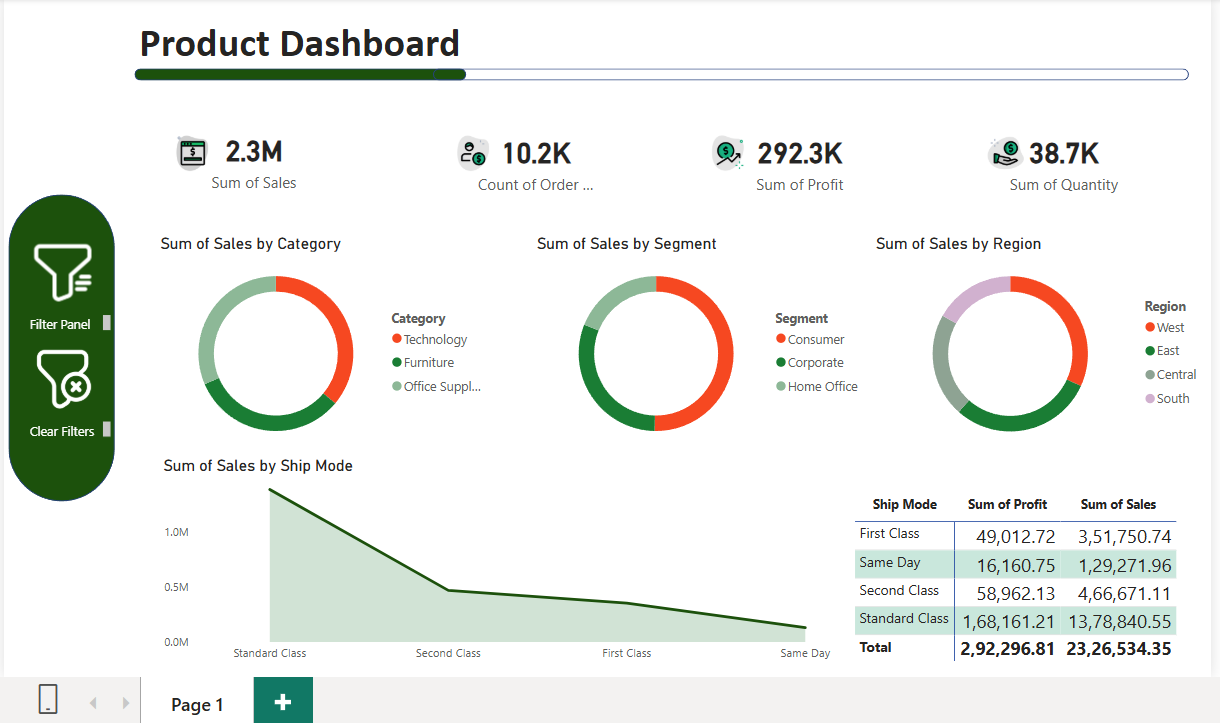

Layout of this report page (visuals, bound fields, positions):
{"tool":"powerbi","page":{"name":"Page 1","canvas":[1280,720],"ordinal":0},"visuals":[{"type":"textbox","box":[138.4,15.9,485.1,65.2],"z":0},{"type":"card","title":"Total Sales","fields":{"Values":["Sum(Sample - Superstore xls - Orders.Sales)"]},"box":[200.4,122.5,128.8,95.4],"z":1000},{"type":"shape","box":[4.8,208.9,112.9,326.1],"z":1000,"group":"g1"},{"type":"card","fields":{"Values":["CountNonNull(Sample - Superstore xls - Orders.Order ID)"]},"box":[496.3,122.5,135.2,100.2],"z":2000},{"type":"image","title":"Clear","box":[22.3,364.8,79.5,79.5],"z":2000,"group":"g1"},{"type":"card","fields":{"Values":["Sum(Sample - Superstore xls - Orders.Profit)"]},"box":[776.2,122.5,135.2,100.2],"z":3000},{"type":"textbox","box":[22.3,331.4,95.4,27],"z":3000,"group":"g1"},{"type":"card","fields":{"Values":["Sum(Sample - Superstore xls - Orders.Quantity)"]},"box":[1056.2,122.5,135.2,100.2],"z":4000},{"type":"textbox","box":[22.3,444.3,95.4,27],"z":4000,"group":"g1"},{"type":"image","box":[738,140,60.4,49.3],"z":5000},{"type":"image","box":[22.3,251.8,79.5,79.5],"z":5000,"group":"g1"},{"type":"image","box":[1032.3,140,60.4,49.3],"z":6000},{"type":"image","box":[170.2,140,60.4,49.3],"z":7000},{"type":"image","box":[467.6,140,60.4,49.3],"z":8000},{"type":"donutChart","fields":{"Y":["Sum(Sample - Superstore xls - Orders.Sales)"],"Category":["Sample - Superstore xls - Orders.Category"]},"box":[160,250,360,235],"z":9000},{"type":"donutChart","fields":{"Y":["Sum(Sample - Superstore xls - Orders.Sales)"],"Category":["Sample - Superstore xls - Orders.Segment"]},"box":[560,250,360,235],"z":10000},{"type":"donutChart","fields":{"Y":["Sum(Sample - Superstore xls - Orders.Sales)"],"Category":["Sample - Superstore xls - Orders.Region"]},"box":[920,250,360,235.4],"z":11000},{"type":"shape","box":[138.4,74.8,353.1,12.7],"z":12000},{"type":"areaChart","fields":{"Category":["Sample - Superstore xls - Orders.Ship Mode"],"Y":["Sum(Sample - Superstore xls - Orders.Sales)"]},"box":[163.8,485.1,766.7,227.5],"z":13000},{"type":"pivotTable","fields":{"Values":["Sum(Sample - Superstore xls - Orders.Profit)","Sum(Sample - Superstore xls - Orders.Sales)"],"Rows":["Sample - Superstore xls - Orders.Ship Mode"]},"box":[896.7,521.7,383.3,190.9],"z":14000},{"type":"group","id":"g1","title":"FilterPanel","box":[4.8,208.9,112.9,326.1],"z":19000},{"type":"shape","box":[454.9,74.8,804.8,12.7],"z":20000}]}

Visuals, with their boxes on the page's 1280x720 design canvas (x1, y1, x2, y2). These are canvas units, not pixel positions in the 1220x723 screenshot, which may show the page scaled, cropped or inside an application window:
textbox: left=138, top=16, right=624, bottom=81
"Total Sales" card: left=200, top=122, right=329, bottom=218
shape: left=5, top=209, right=118, bottom=535
card - CountNonNull(Sample - Superstore xls - Orders.Order ID): left=496, top=122, right=632, bottom=223
"Clear" image: left=22, top=365, right=102, bottom=444
card - Sum(Sample - Superstore xls - Orders.Profit): left=776, top=122, right=911, bottom=223
textbox: left=22, top=331, right=118, bottom=358
card - Sum(Sample - Superstore xls - Orders.Quantity): left=1056, top=122, right=1191, bottom=223
textbox: left=22, top=444, right=118, bottom=471
image: left=738, top=140, right=798, bottom=189
image: left=22, top=252, right=102, bottom=331
image: left=1032, top=140, right=1093, bottom=189
image: left=170, top=140, right=231, bottom=189
image: left=468, top=140, right=528, bottom=189
donutChart - Sum(Sample - Superstore xls - Orders.Sales) x Sample - Superstore xls - Orders.Category: left=160, top=250, right=520, bottom=485
donutChart - Sum(Sample - Superstore xls - Orders.Sales) x Sample - Superstore xls - Orders.Segment: left=560, top=250, right=920, bottom=485
donutChart - Sum(Sample - Superstore xls - Orders.Sales) x Sample - Superstore xls - Orders.Region: left=920, top=250, right=1280, bottom=485
shape: left=138, top=75, right=492, bottom=88
areaChart - Sample - Superstore xls - Orders.Ship Mode x Sum(Sample - Superstore xls - Orders.Sales): left=164, top=485, right=930, bottom=713
pivotTable - Sum(Sample - Superstore xls - Orders.Profit) x Sum(Sample - Superstore xls - Orders.Sales): left=897, top=522, right=1280, bottom=713
"FilterPanel" group: left=5, top=209, right=118, bottom=535
shape: left=455, top=75, right=1260, bottom=88
